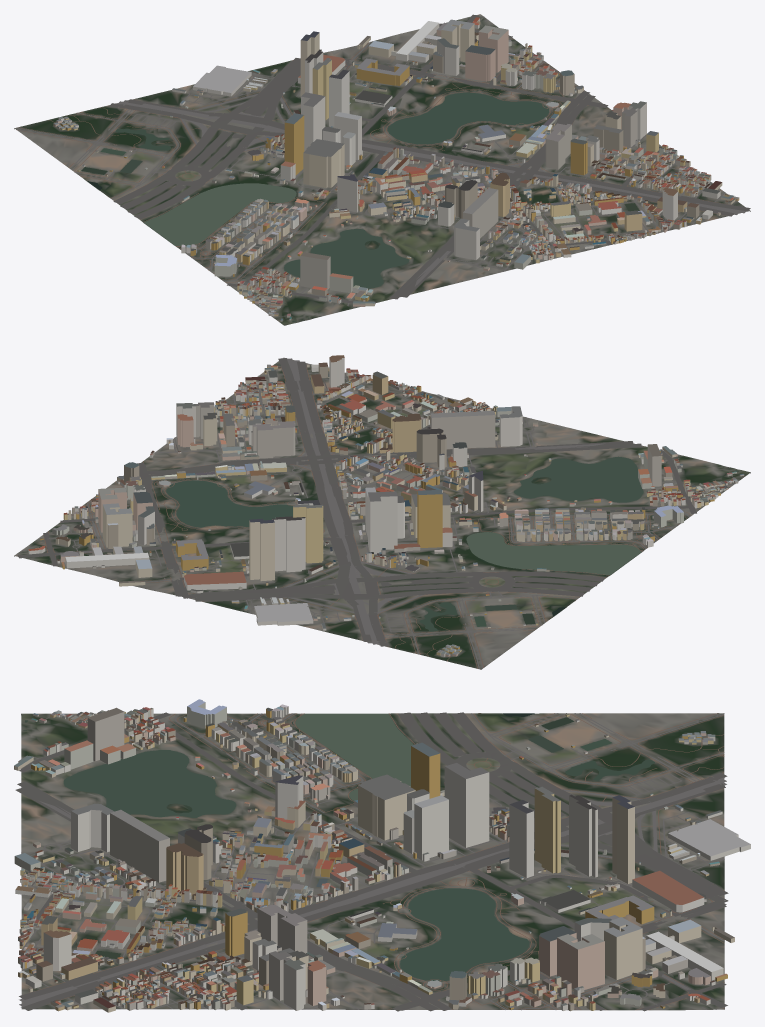
3 views of the same model, one above another, from view 1: azimuth 30°, elevation 25°; view 2: azimuth 150°, elevation 25°; view 3: azimuth 270°, elevation 25° (orthographic). The views are drawn at different scales.
Parts seen in each view (by area): view 1: buildings, ground, roads, water; view 2: buildings, ground, roads, water; view 3: buildings, ground, roads, water.
Part boxes in pixels (bbox=[...]): buildings: bbox=[53, 17, 739, 321]; ground: bbox=[14, 14, 750, 325]; roads: bbox=[14, 14, 750, 316]; water: bbox=[81, 92, 639, 321]; buildings: bbox=[28, 355, 744, 656]; ground: bbox=[14, 357, 750, 669]; roads: bbox=[15, 358, 734, 669]; water: bbox=[166, 398, 738, 631]; buildings: bbox=[14, 699, 750, 1012]; ground: bbox=[21, 713, 724, 1010]; roads: bbox=[15, 712, 728, 1011]; water: bbox=[23, 713, 654, 981].
Size of the model in its own units: 1424 by 171 by 1469.
